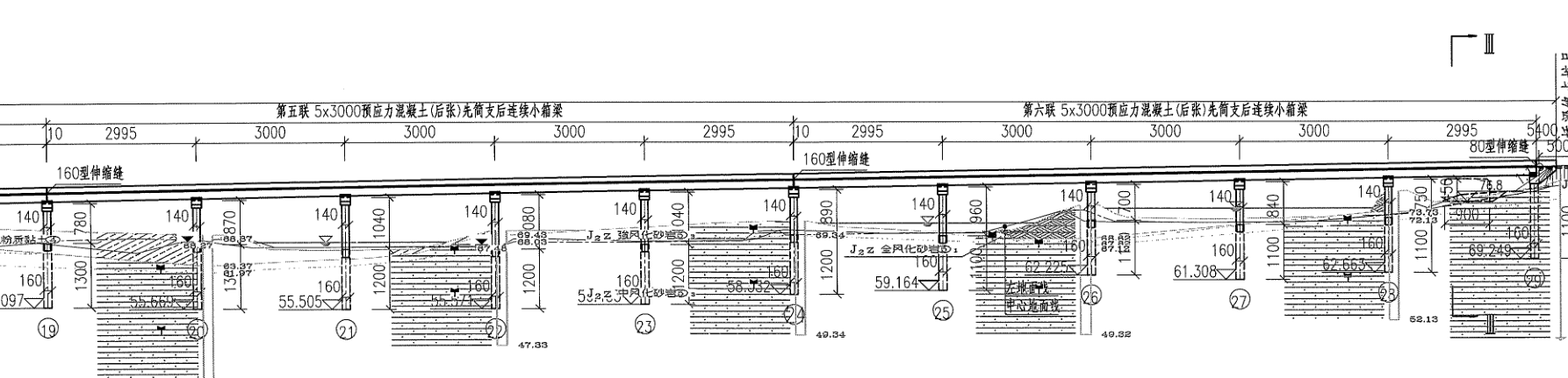B: (788, 89, 1538, 138), (33, 91, 795, 139)
C: (269, 189, 363, 347), (568, 182, 659, 341), (421, 186, 510, 344), (122, 192, 212, 346), (867, 178, 957, 329), (1163, 174, 1257, 317), (720, 181, 809, 329), (1313, 171, 1402, 309), (1033, 175, 1106, 311), (0, 195, 65, 345), (1463, 182, 1547, 294)
